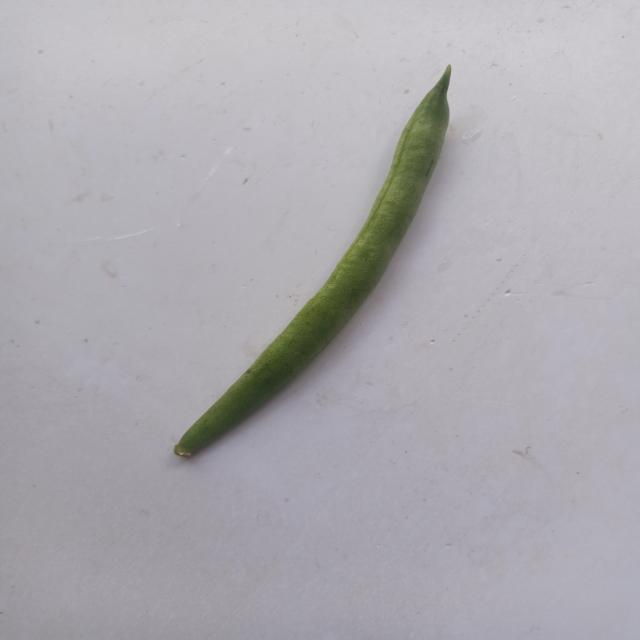Beans: (163, 57, 464, 478)
